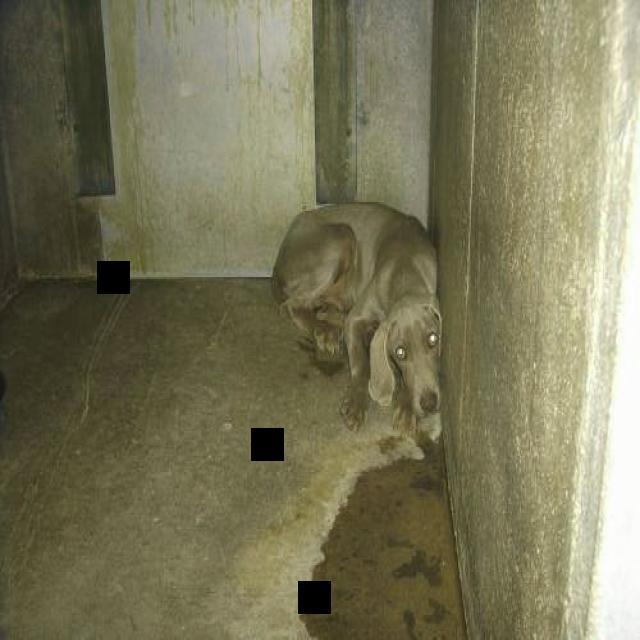adult_dog: (269, 202, 446, 433)
